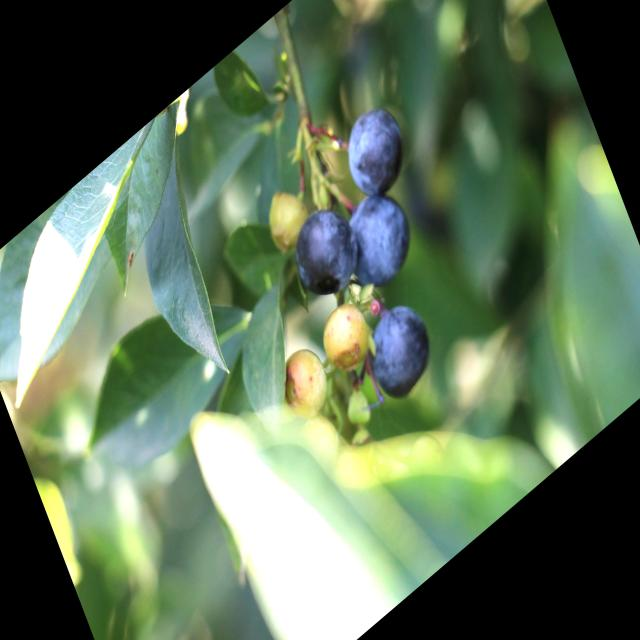blueberry: (353, 283, 445, 417), (336, 171, 424, 301), (283, 189, 368, 314), (333, 90, 418, 212)
blueberry-unripe: (272, 333, 334, 427), (314, 289, 376, 381), (261, 173, 312, 250)
